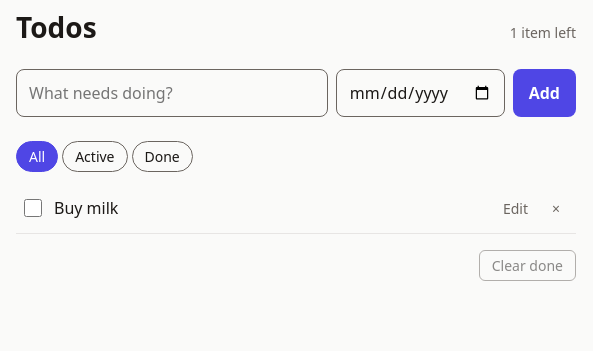
Test: App › keeps the todo and shows an error when delete fails
Click the button named "Delete Buy milk" at (556, 208), box [544,196,568,221]
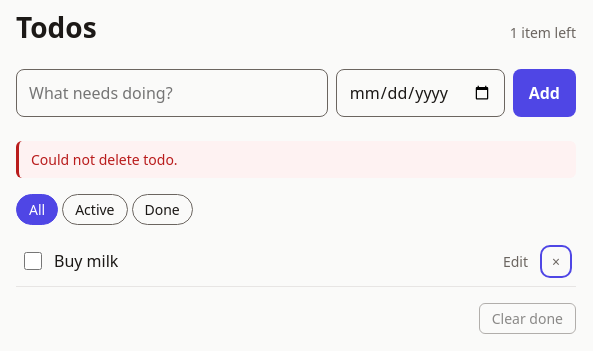
Expected: the text "Buy milk" is shown, [54,249,118,273]
Now the message reads "Could not delete todo.", box [31,150,178,169]
